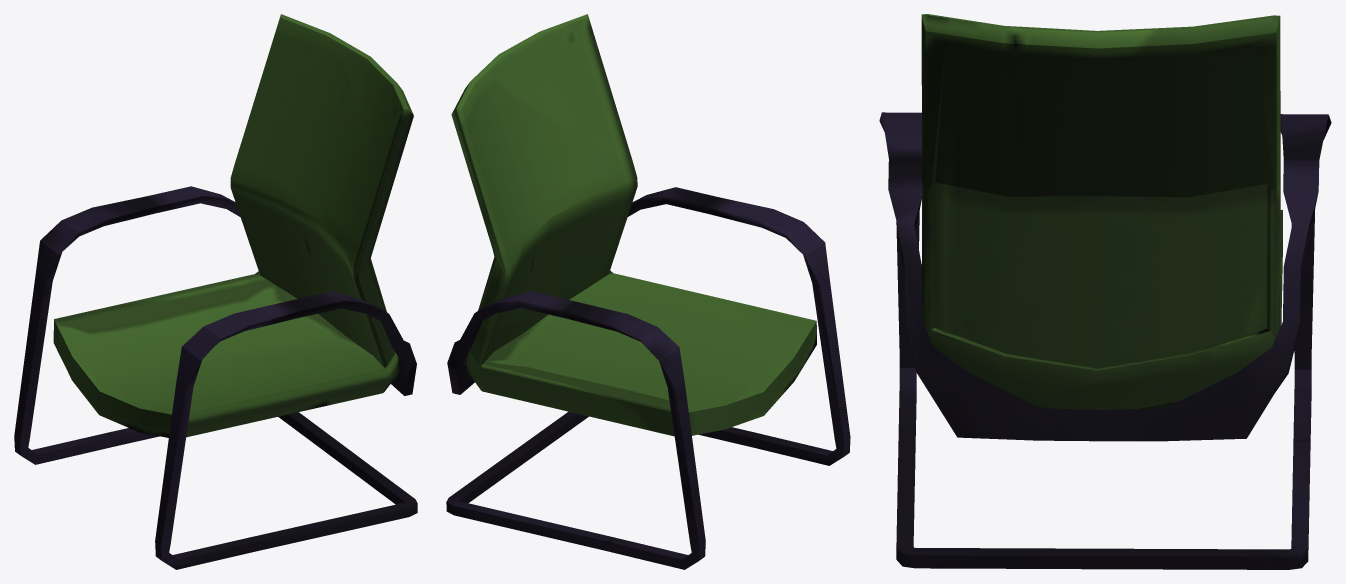
Rendered from Tx_prop_green_chair_3.fbx.
The picture shows the model from 3 angles, left to right: view 1: azimuth 30°, elevation 25°; view 2: azimuth 150°, elevation 25°; view 3: azimuth 270°, elevation 25°; orthographic projection. The views are drawn at different scales.
Visible parts, largest first — view 1: polySurface14, polySurface13; view 2: polySurface14, polySurface13; view 3: polySurface14, polySurface13.
Part boxes in pixels (bbox=[...]): polySurface14: bbox=[53, 14, 413, 437]; polySurface13: bbox=[14, 186, 417, 569]; polySurface14: bbox=[451, 14, 816, 436]; polySurface13: bbox=[446, 187, 850, 569]; polySurface14: bbox=[921, 14, 1282, 409]; polySurface13: bbox=[879, 112, 1331, 569].
Size of the model in its own units: 3.36 by 4.46 by 3.31.
